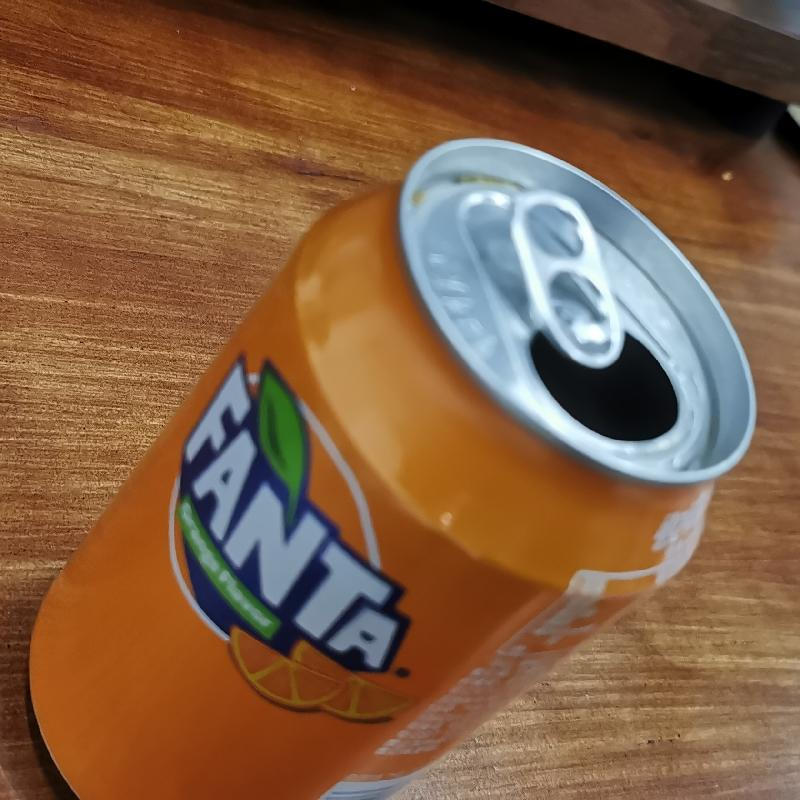cans: (28, 137, 757, 800)
